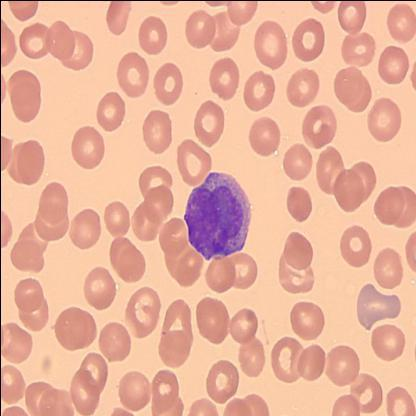Promyelocyte: (182, 172, 250, 260)
